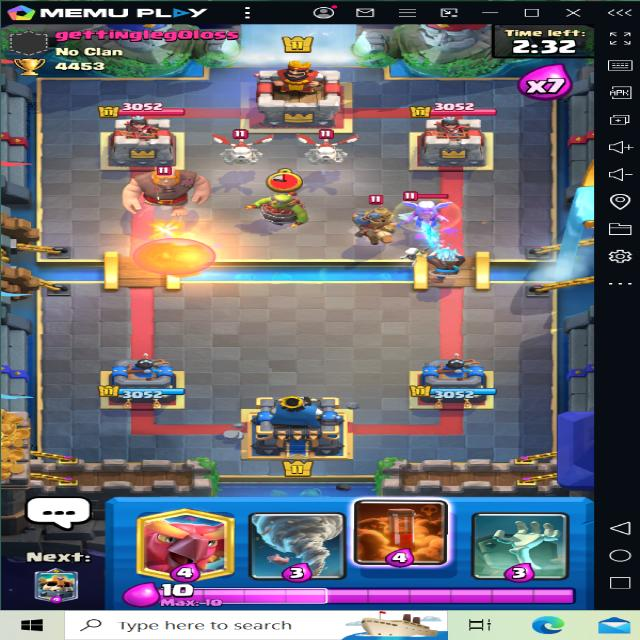battle-healer: (395, 190, 464, 233)
giant: (121, 160, 209, 213)
goblin-demolisher: (248, 184, 308, 229)
prince: (349, 195, 409, 248)
skeleton-dragon: (209, 130, 269, 168), (298, 129, 353, 163)
